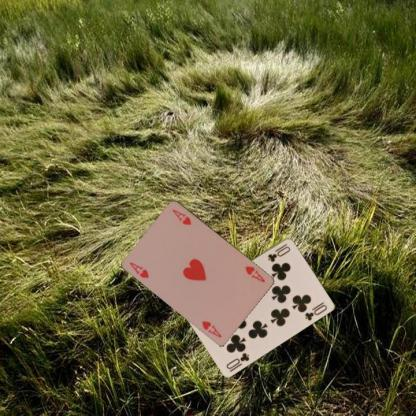10c: (265, 241, 292, 263), (223, 350, 250, 370)
Ah: (242, 262, 266, 284), (126, 260, 150, 280)
